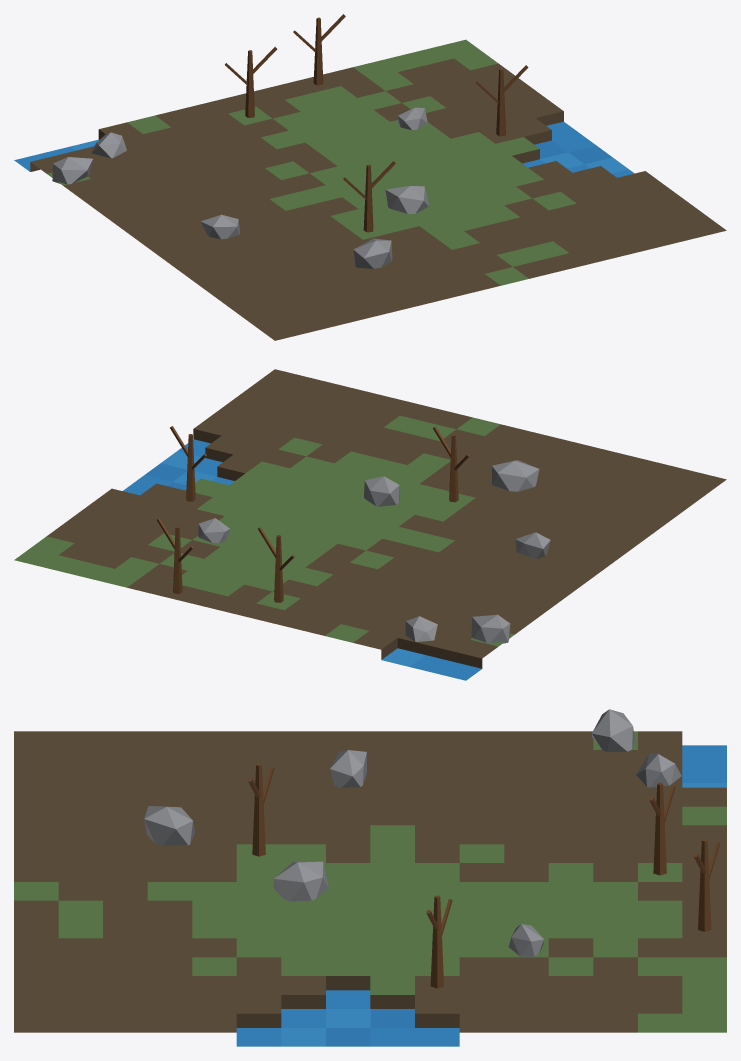
The model's file is chunk_1_17.glb.
3 renders of one model, top to bottom at view 1: azimuth 30°, elevation 25°; view 2: azimuth 150°, elevation 25°; view 3: azimuth 270°, elevation 25°, orthographic. The views are drawn at different scales.
Parts seen in each view (by area): view 1: chunk_1_17; view 2: chunk_1_17; view 3: chunk_1_17.
Part boxes in pixels (x1=…): chunk_1_17: x1=14, y1=14, x2=726, y2=340; chunk_1_17: x1=14, y1=369, x2=726, y2=680; chunk_1_17: x1=14, y1=709, x2=726, y2=1046.
Size of the model in its own units: 16.07 by 2.69 by 16.
